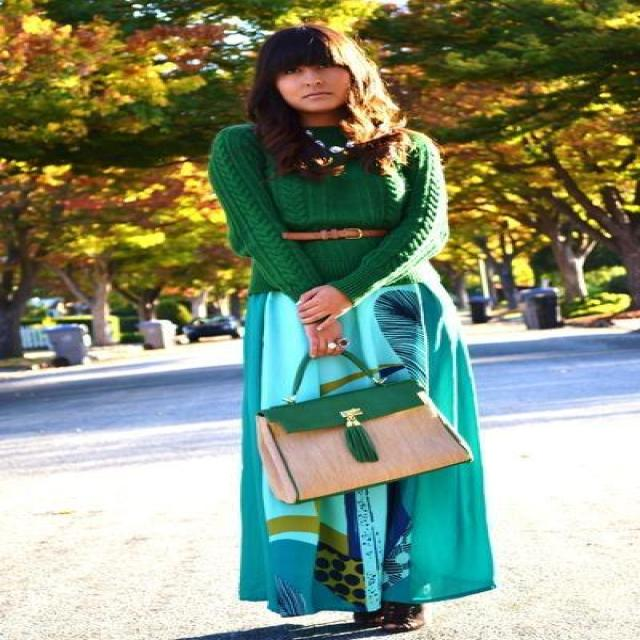bag: (258, 350, 472, 498)
jacket: (200, 120, 458, 303)
skirt: (238, 256, 494, 613)
